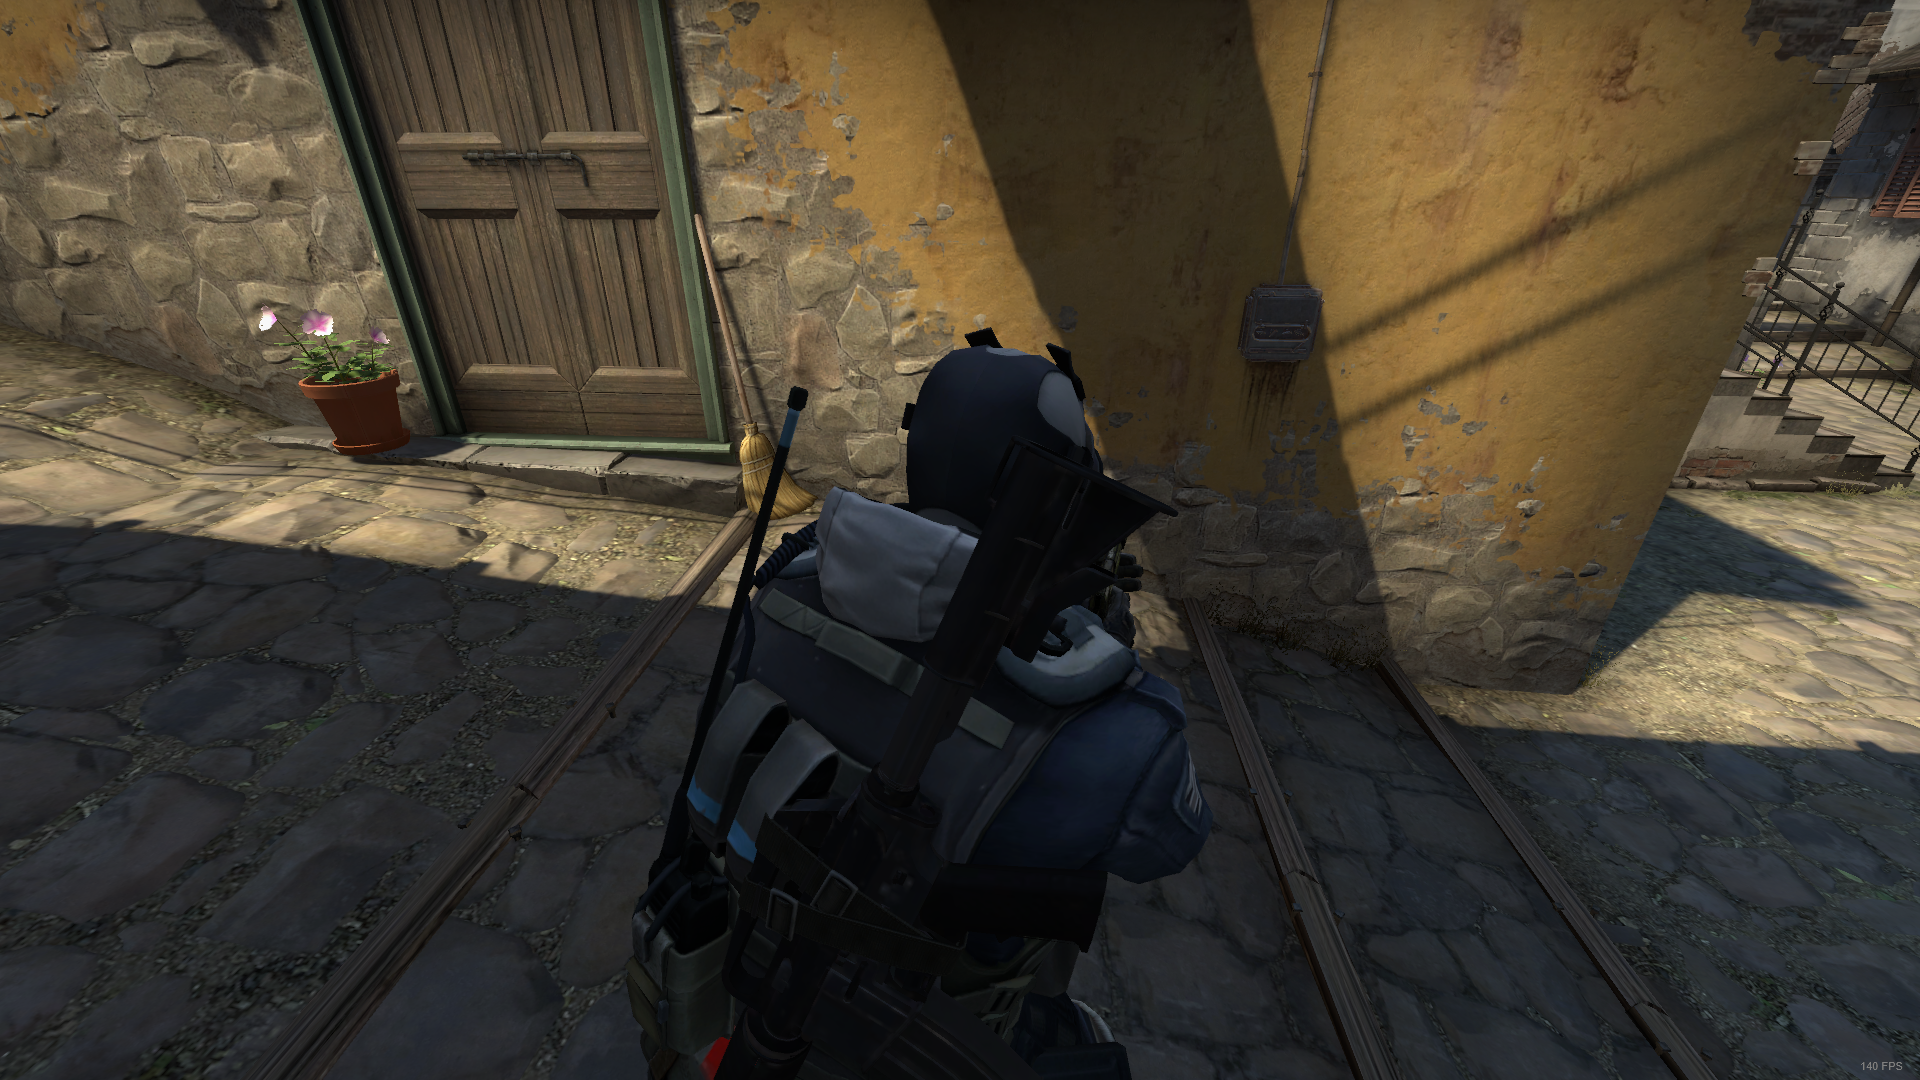ct: (609, 334, 1230, 1067)
